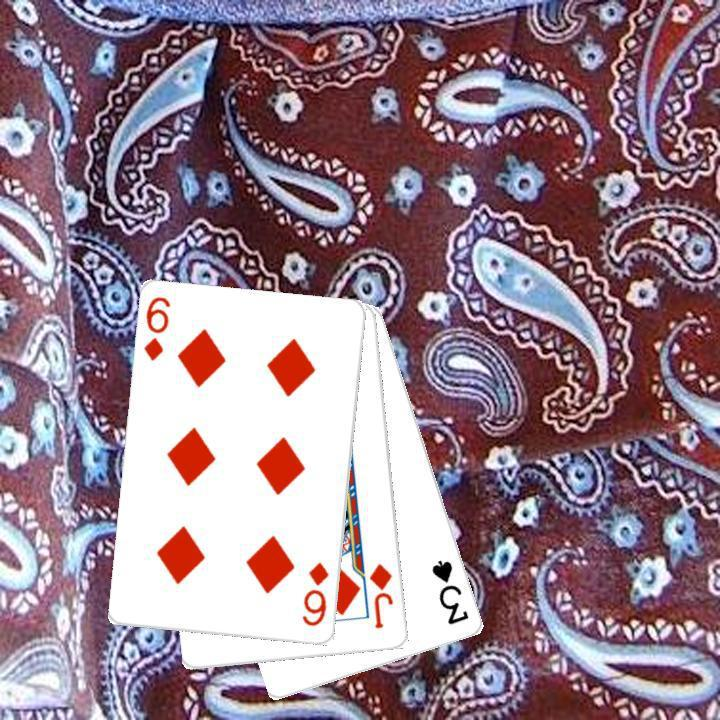3: (427, 556, 472, 627)
6: (298, 558, 331, 629), (140, 293, 173, 363)
J: (365, 559, 396, 631)
